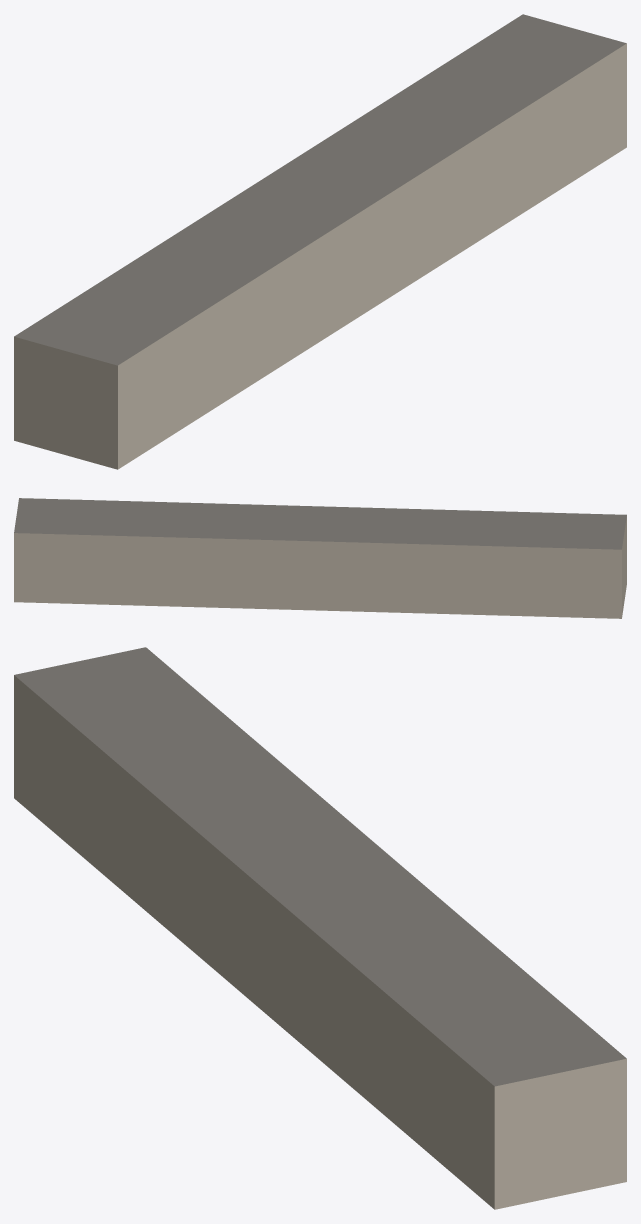
3 views of the same model, one above another, from view 1: azimuth 30°, elevation 25°; view 2: azimuth 150°, elevation 25°; view 3: azimuth 270°, elevation 25° (orthographic). The views are drawn at different scales.
Parts seen in each view (by area): view 1: HP-w1203860015; view 2: HP-w1203860015; view 3: HP-w1203860015.
Part boxes in pixels (<box>): HP-w1203860015: <box>14,14,626,469</box>; HP-w1203860015: <box>14,498,626,618</box>; HP-w1203860015: <box>14,647,626,1209</box>.
Bounding box in the file's own units: 91.69 × 12 × 54.06.
